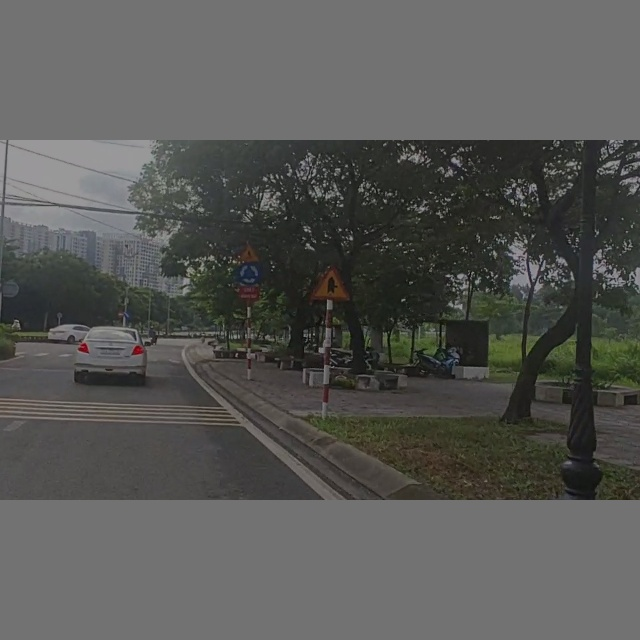P.102: (117, 311, 124, 317)
R.302a: (124, 311, 131, 319)
R.303: (238, 263, 261, 285)
W.207: (309, 265, 351, 303)
W.224: (239, 243, 260, 263)
